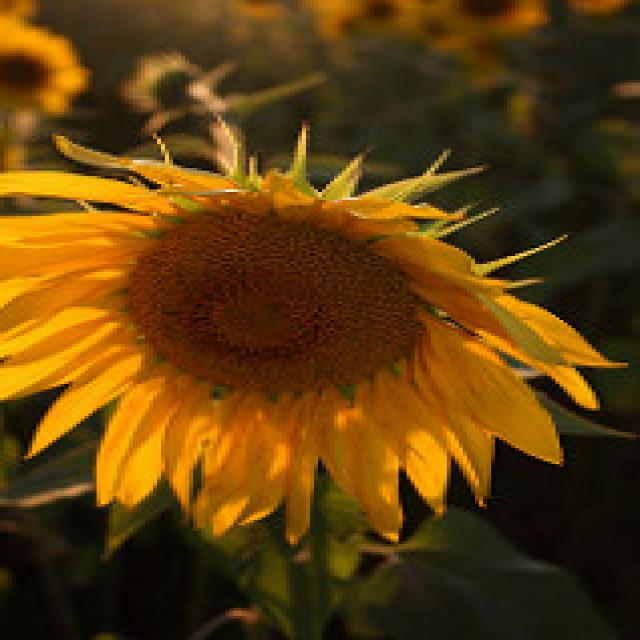sunflower: (0, 137, 624, 548)
